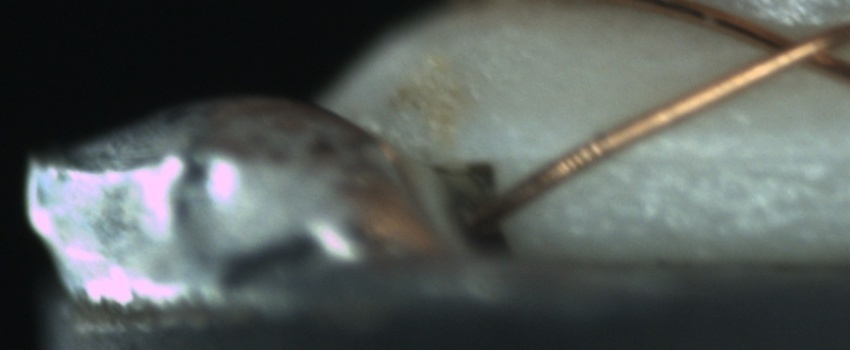CL: (738, 12, 844, 81)
DL: (575, 125, 846, 188)
